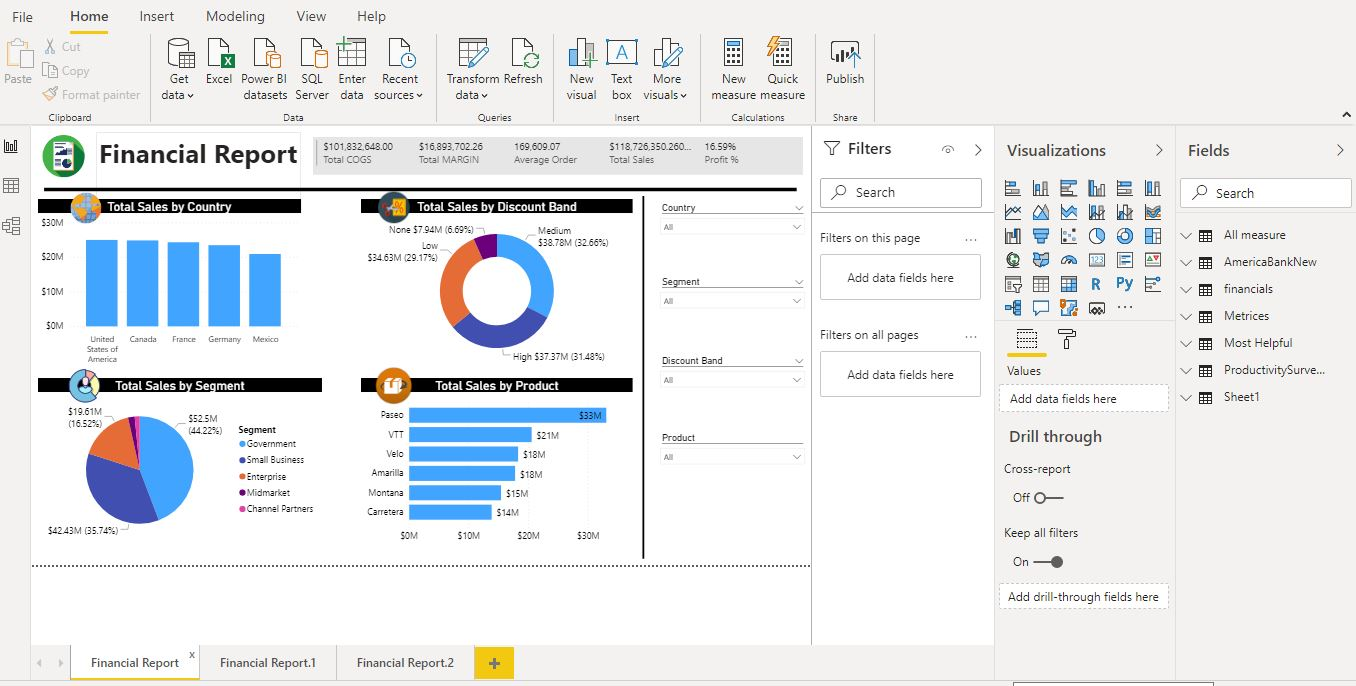

This screenshot's page, from the dashboard's own definition file:
{"tool":"powerbi","page":{"name":"Financial Report","canvas":[1280,720],"ordinal":0},"visuals":[{"type":"multiRowCard","fields":{"Values":["financials.Total COGS","financials.Total MARGIN","financials.Average Order","financials.Total Sales","financials.Profit %"]},"box":[462.8,18.1,804.1,62.4],"z":0},{"type":"textbox","box":[106.7,9.8,336.4,124.7],"z":1000},{"type":"image","box":[0,9.8,106.7,78.8],"z":2000},{"type":"basicShape","box":[11.5,88.6,1255.4,31.2],"z":3000},{"type":"clusteredColumnChart","fields":{"Y":["financials.Total Sales"],"Category":["financials.Country"]},"box":[11.5,119.8,431.6,279],"z":4000},{"type":"pieChart","fields":{"Category":["financials.Segment"],"Y":["financials.Total Sales"]},"box":[11.5,413.5,466.1,279],"z":5000},{"type":"clusteredBarChart","fields":{"Y":["financials.Total Sales"],"Category":["financials.Product"]},"box":[541.5,413.5,446.4,279],"z":6000},{"type":"slicer","fields":{"Values":["financials.Country"]},"box":[1022.4,119.8,257.6,95.2],"z":7000},{"type":"donutChart","fields":{"Category":["financials.Discount Band"],"Y":["financials.Total Sales"]},"box":[541.5,119.8,446.4,279],"z":8000},{"type":"slicer","fields":{"Values":["financials.Segment"]},"box":[1022.4,241.2,257.6,101.7],"z":9000},{"type":"slicer","fields":{"Values":["financials.Product"]},"box":[1022.4,497.2,257.6,109.9],"z":10000},{"type":"slicer","fields":{"Values":["financials.Discount Band"]},"box":[1022.4,370.9,257.6,109.9],"z":11000},{"type":"basicShape","box":[987.9,105,34.5,615.4],"z":12000},{"type":"image","box":[55.8,375.8,67.3,100.1],"z":13000},{"type":"image","box":[557.9,380.7,75.5,90.3],"z":14000},{"type":"image","box":[54.2,93.5,72.2,82.1],"z":15000},{"type":"image","box":[564.5,93.5,62.4,80.4],"z":16000}]}

Visuals, with their boxes on the page's 1280x720 design canvas (x1, y1, x2, y2). These are canvas units, not pixel positions in the 1356x686 screenshot, which may show the page scaled, cropped or inside an application window:
multiRowCard - financials.Total COGS x financials.Total MARGIN: Rect(463, 18, 1267, 80)
textbox: Rect(107, 10, 443, 134)
image: Rect(0, 10, 107, 89)
basicShape: Rect(12, 89, 1267, 120)
clusteredColumnChart - financials.Total Sales x financials.Country: Rect(12, 120, 443, 399)
pieChart - financials.Segment x financials.Total Sales: Rect(12, 414, 478, 692)
clusteredBarChart - financials.Total Sales x financials.Product: Rect(542, 414, 988, 692)
slicer - financials.Country: Rect(1022, 120, 1280, 215)
donutChart - financials.Discount Band x financials.Total Sales: Rect(542, 120, 988, 399)
slicer - financials.Segment: Rect(1022, 241, 1280, 343)
slicer - financials.Product: Rect(1022, 497, 1280, 607)
slicer - financials.Discount Band: Rect(1022, 371, 1280, 481)
basicShape: Rect(988, 105, 1022, 720)
image: Rect(56, 376, 123, 476)
image: Rect(558, 381, 633, 471)
image: Rect(54, 94, 126, 176)
image: Rect(564, 94, 627, 174)
